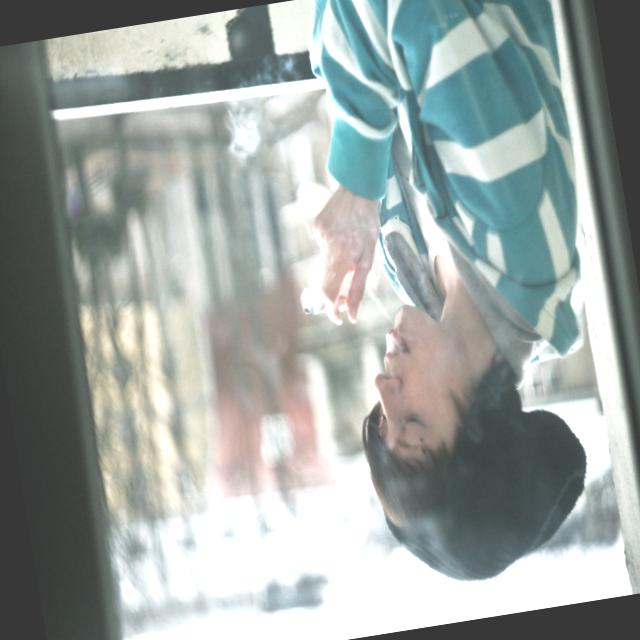smoke: (300, 286, 354, 332)
